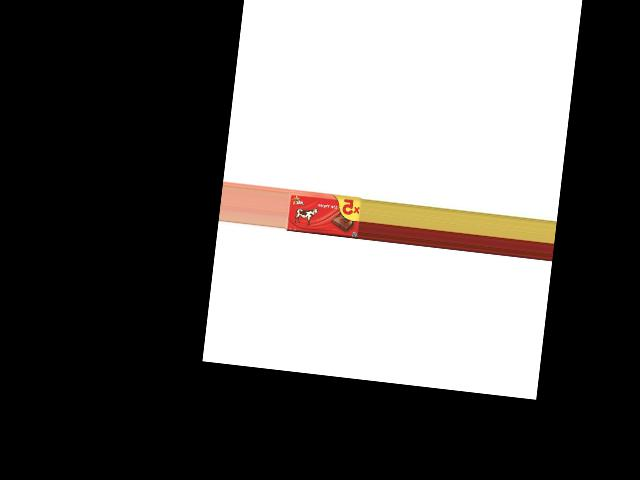chocolate: (284, 187, 362, 238)
